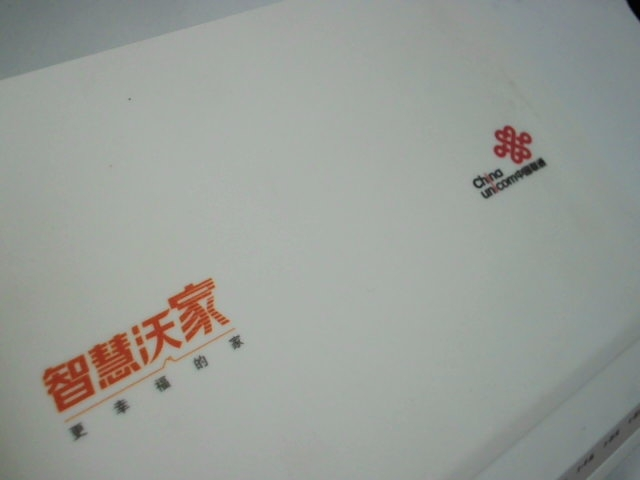AC_ChinaUnicom: (455, 115, 557, 210)
